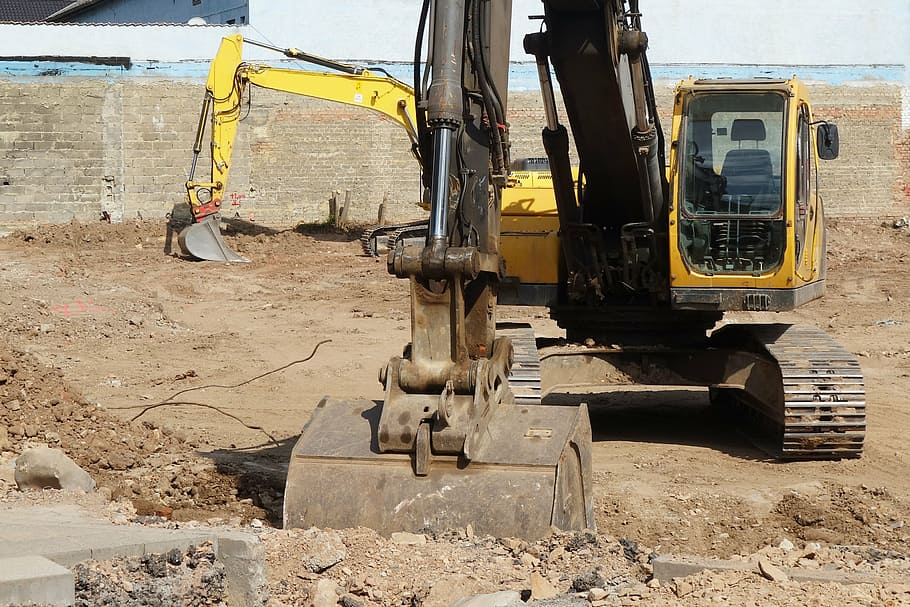excavator: (294, 1, 869, 555), (177, 38, 571, 281)
